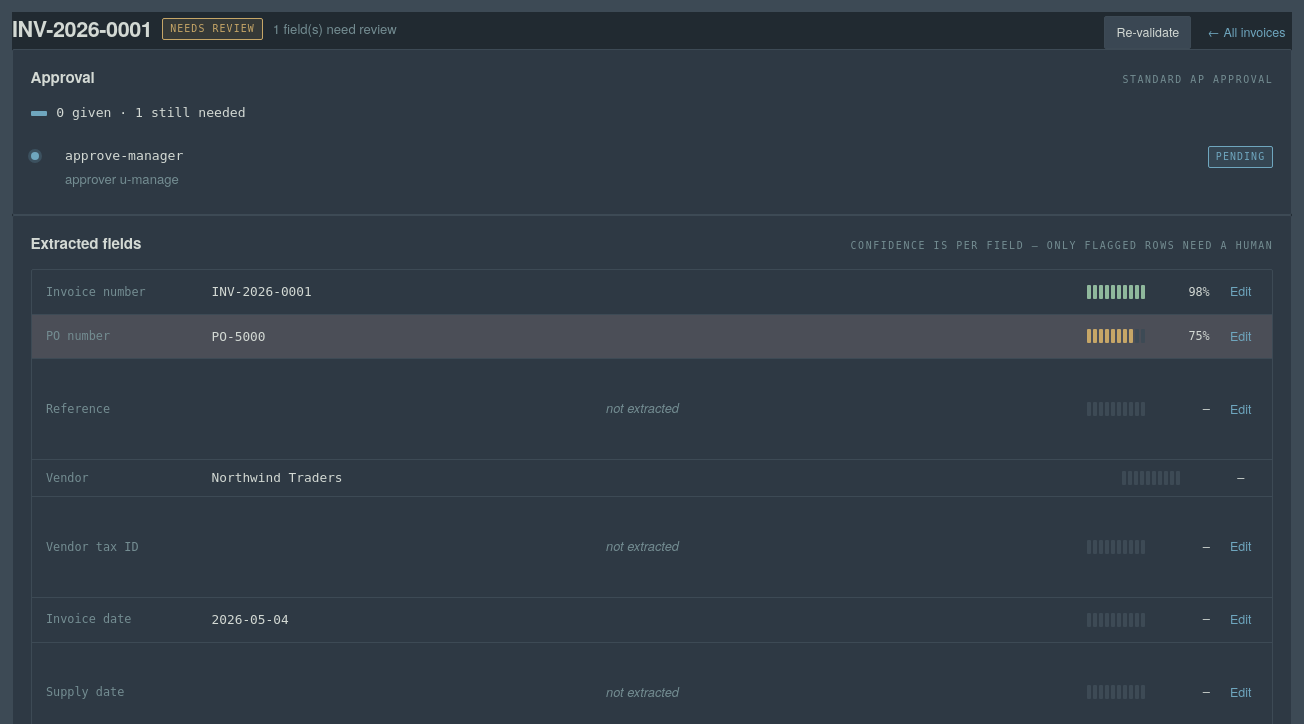
Test: re-validation on demand › is reachable from the screen
Click the button "Re-validate": point(1148, 33) [1104, 16, 1191, 49]
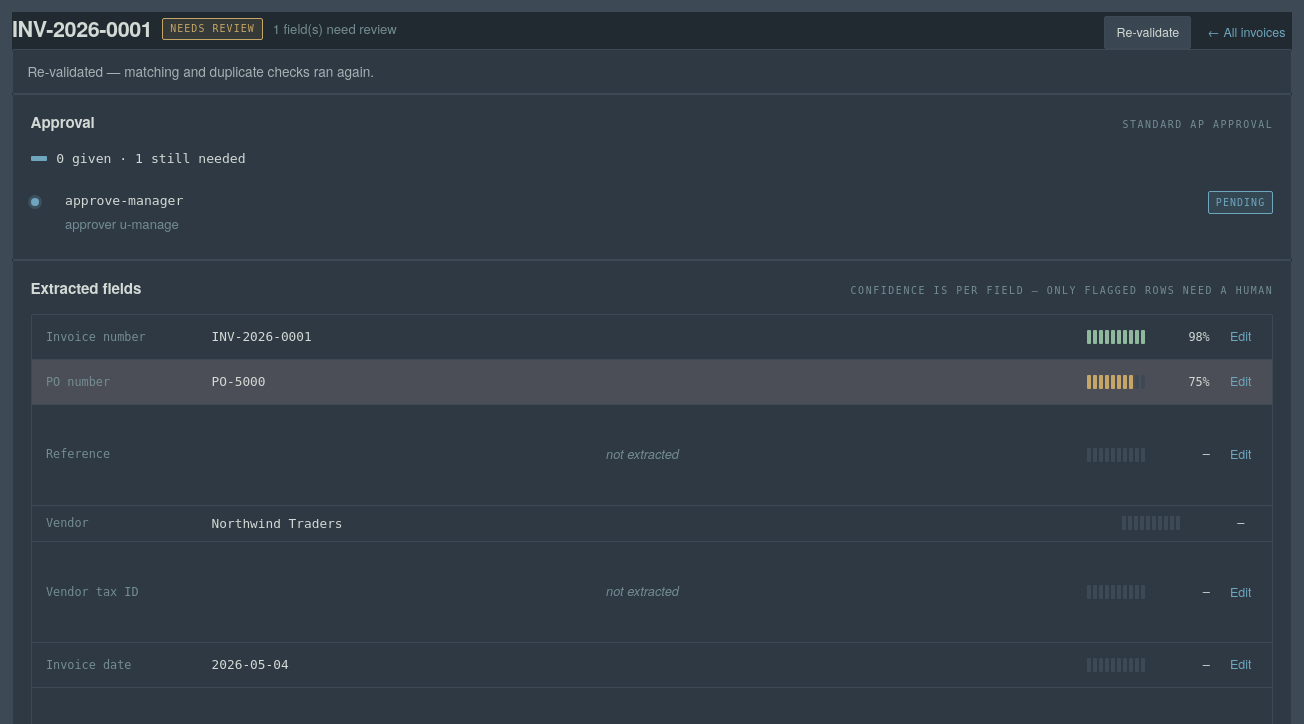
Result: the text "Re-validated — matching and duplicate checks ran again." is shown at [12, 49, 1292, 94]
